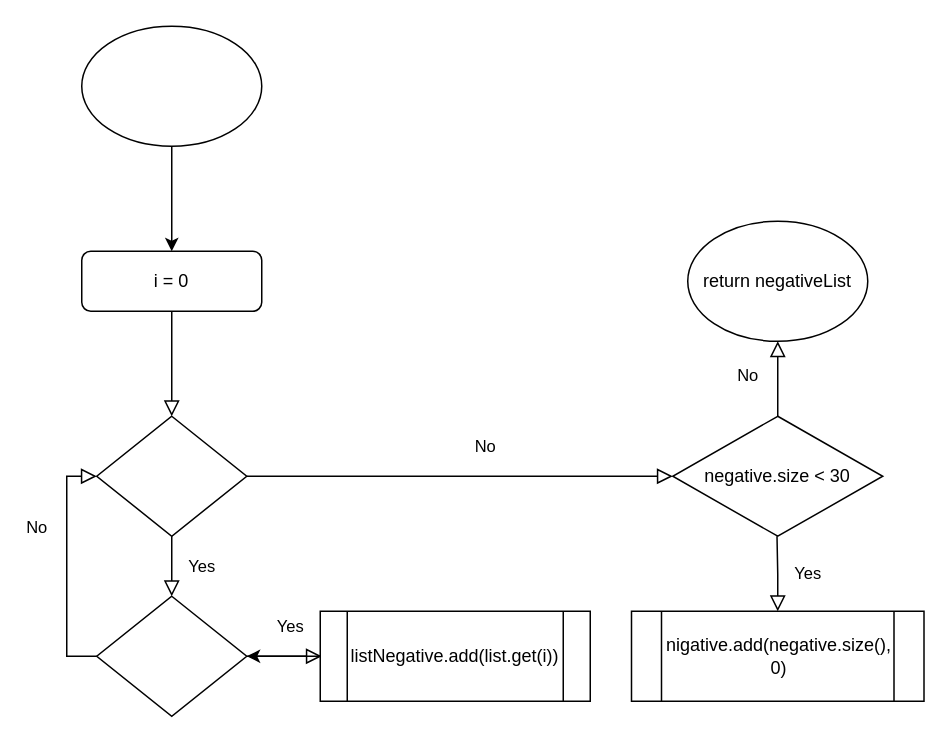
This 950x743 diagram has some shape labels left out. The shapes that lost their labels are listed below. From the top down, each one's box as (x1, y1, x2, y2) in pixels, then its label:
(80, 25, 262, 146): input
(95, 415, 247, 536): i < list.size()
(95, 595, 247, 716): list.get(i) < 0
